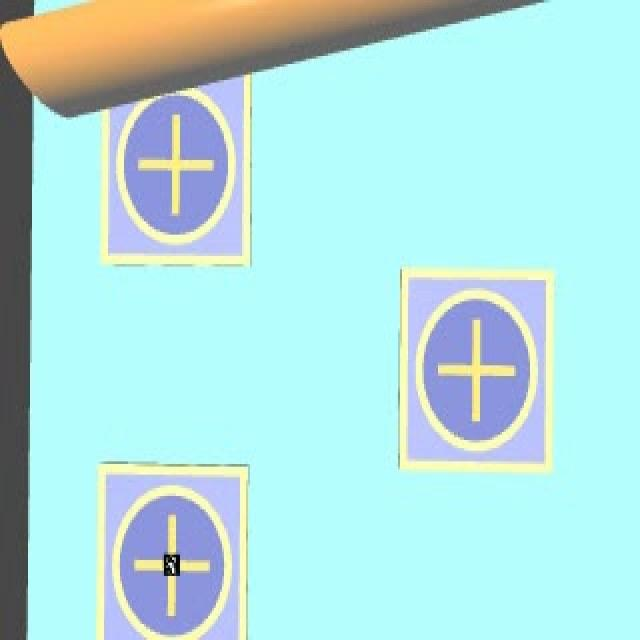Yellow-crosses: (425, 302, 535, 445), (124, 103, 230, 243), (131, 494, 219, 620)
